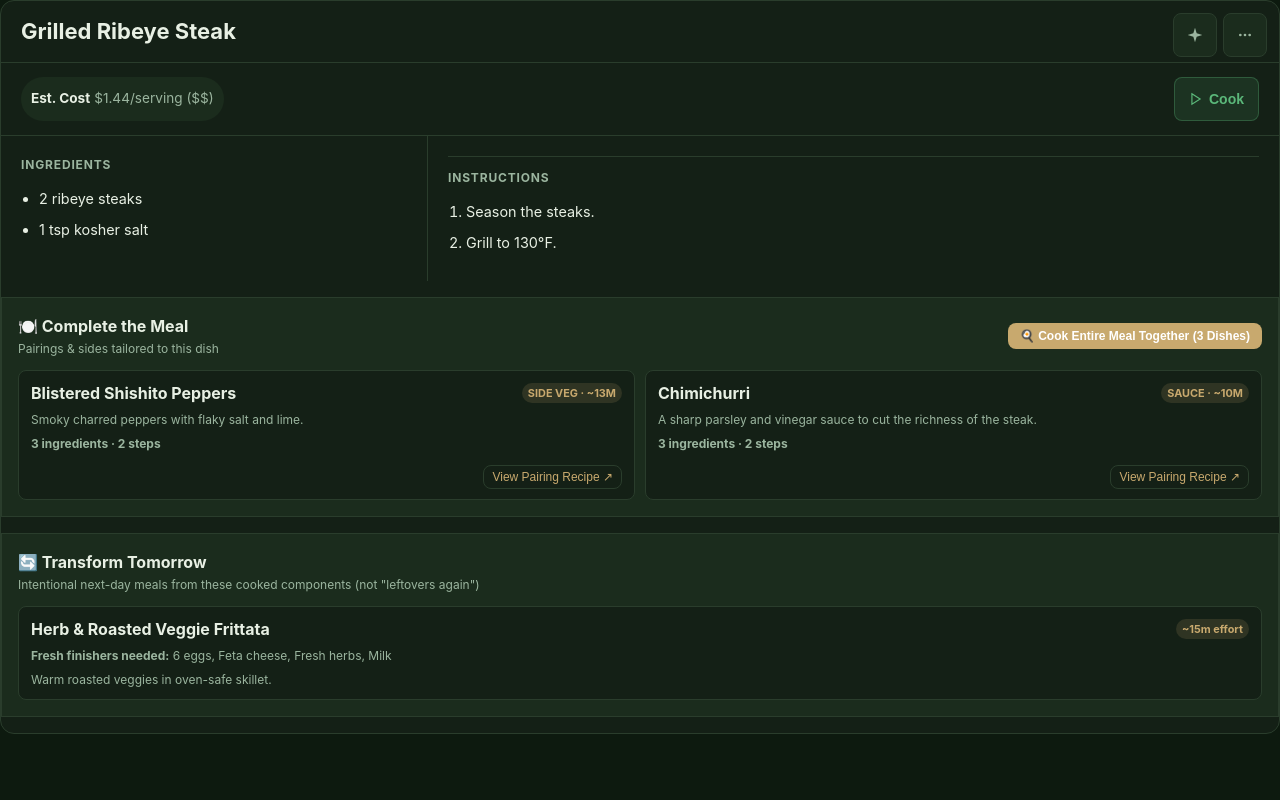
Scenario: Complete the Meal — pairings generated per dish › opens a generated pairing as a full recipe without generating pairings for it
Click the button "View Pairing Recipe ↗" below "Blistered Shishito Peppers".
click(553, 477)  # box [483,465,622,489]
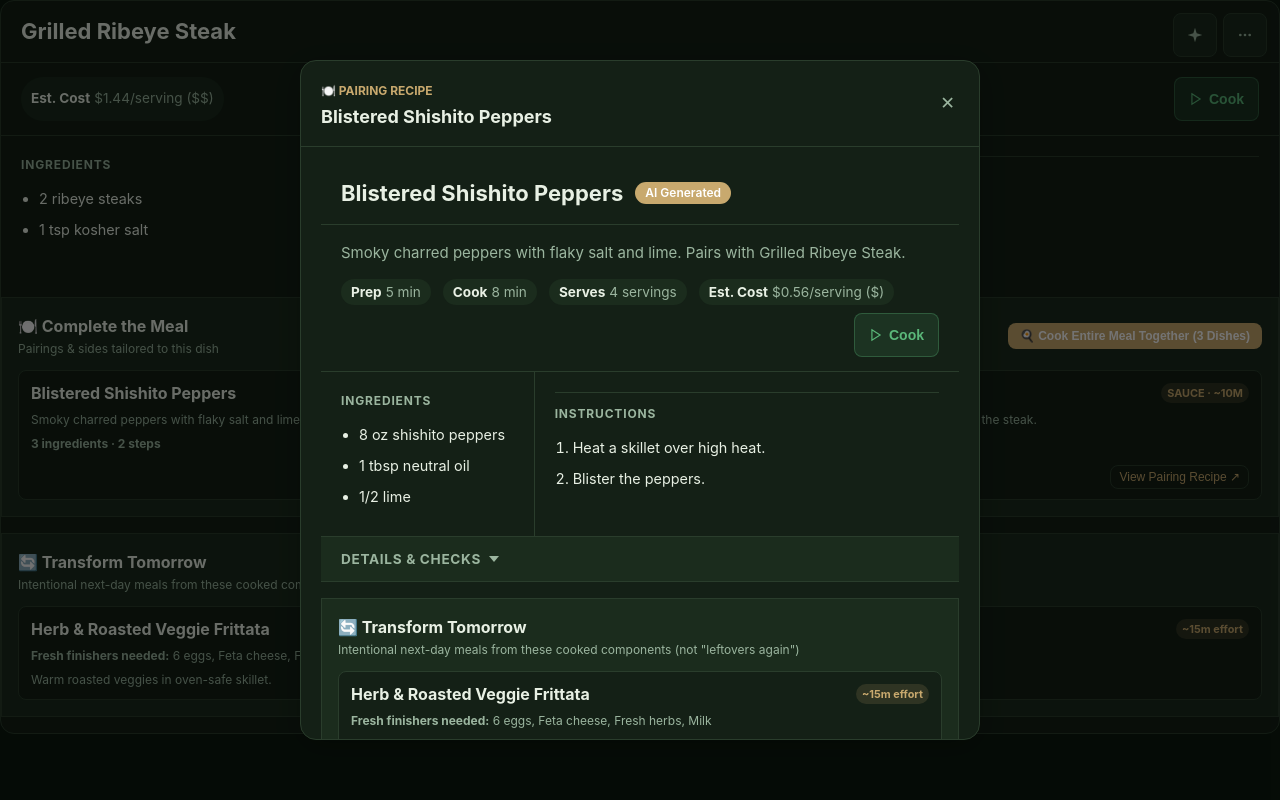
Expected: the heading with id "side-recipe-title" reads "Blistered Shishito Peppers", [321,106,552,127]
Expected: the list item "Heat a skillet over high heat." is shown, [573,439,765,456]
